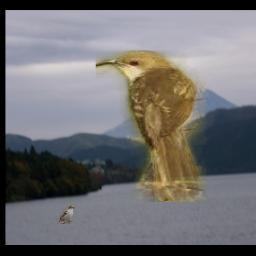Cuckoo: (95, 51, 205, 203)
Sparrow: (56, 206, 74, 225)
